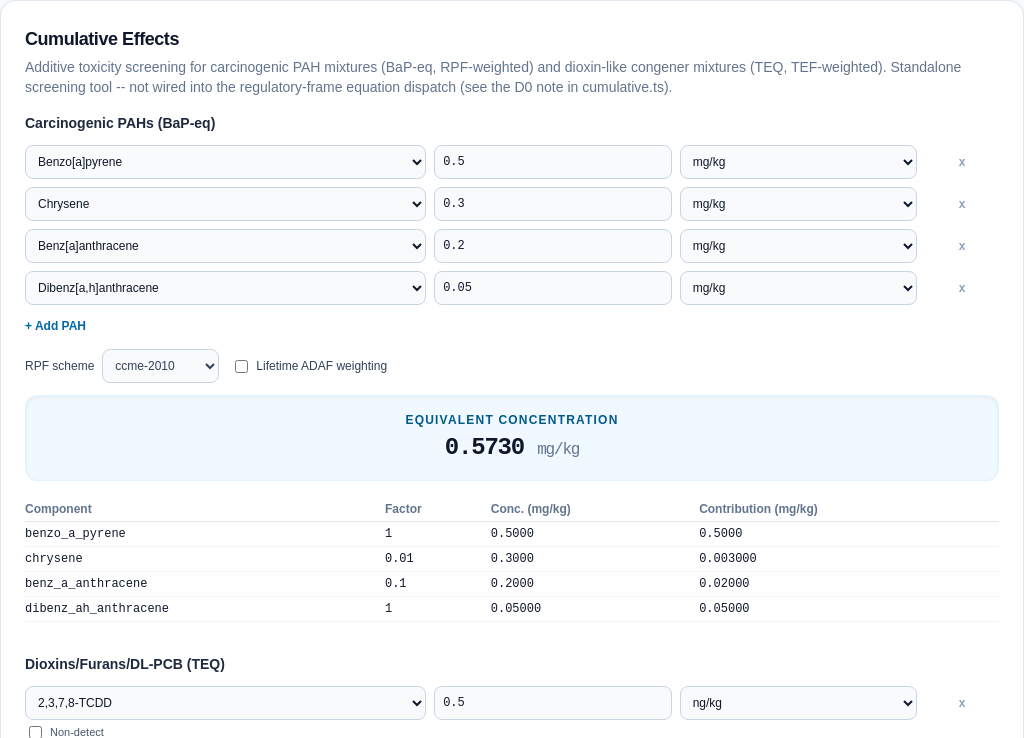
Test: CumulativeEffectsCalculator › lifetime ADAF toggle reveals age-bin fraction inputs and still renders a result without crashing
Step 1. Click the checkbox with test id "cum-bapeq-lifetime-toggle" → [242, 366], box [235, 360, 248, 372]
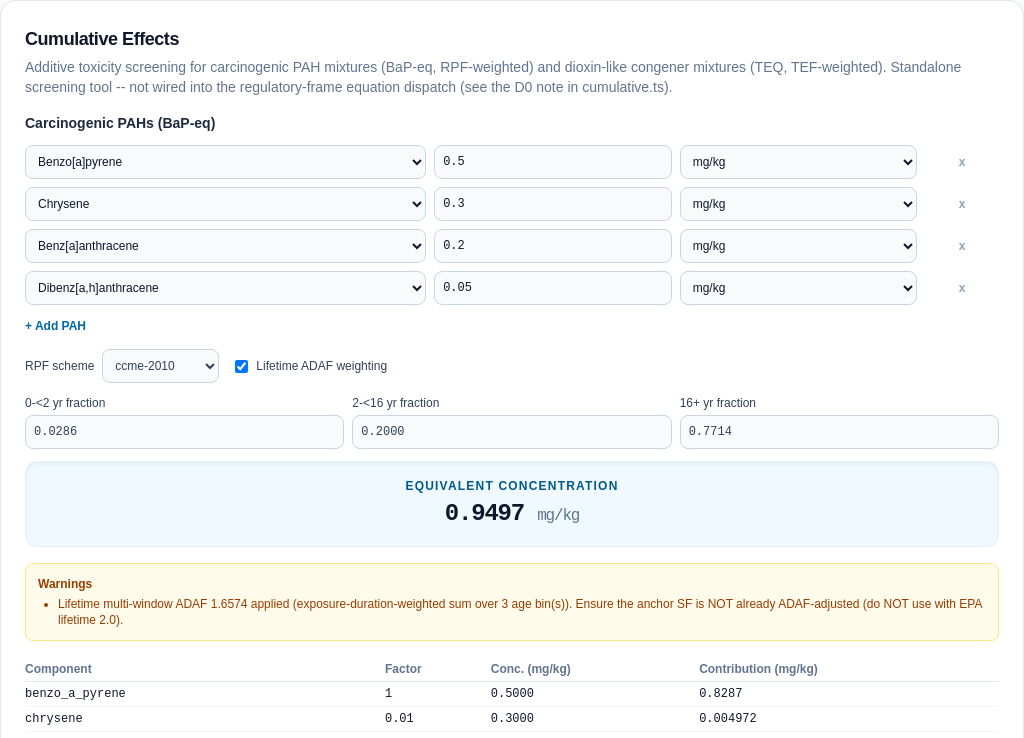
Expected: the element with test id "cum-bapeq-value" reads "0.9497 mg/kg", [445, 500, 524, 527]
Result: the element with test id "cum-bapeq-agebins" is shown at [25, 395, 999, 449]
